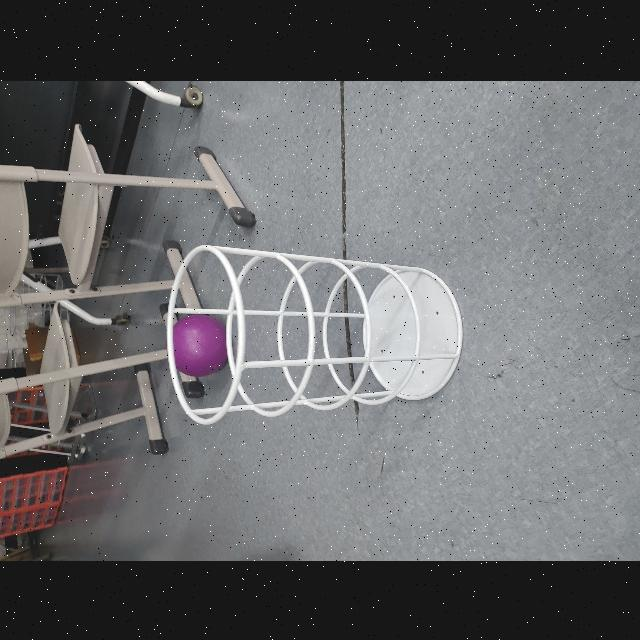S: (162, 240, 468, 426)
